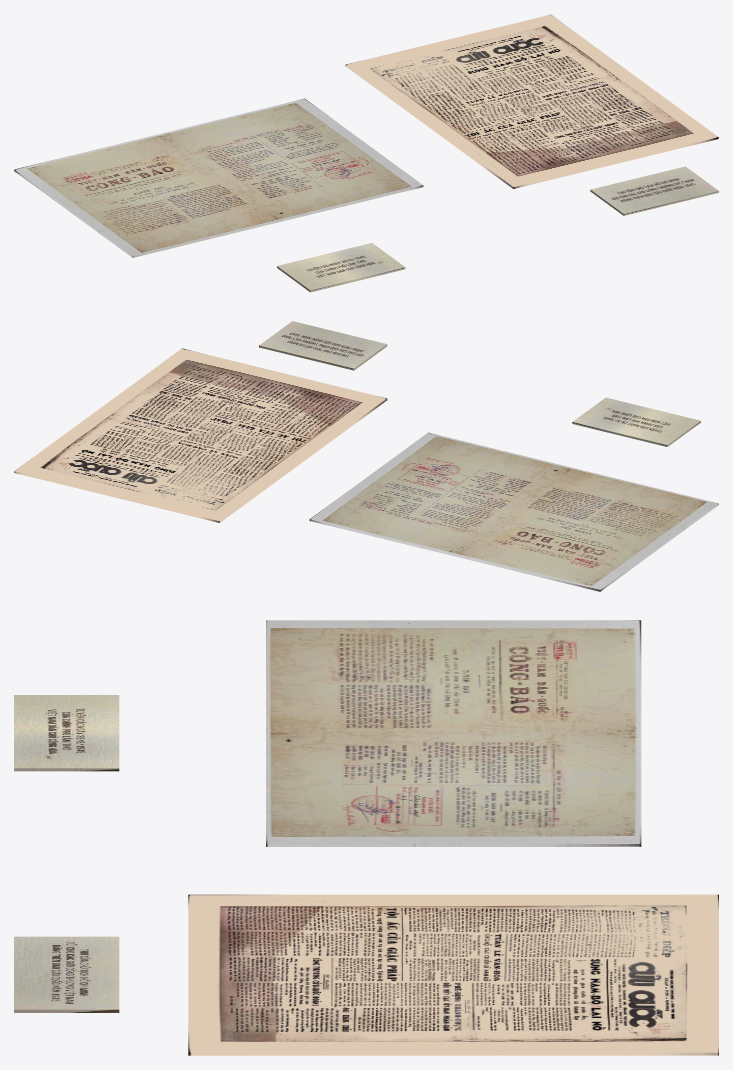
Rendered from thu_va_tuyen_cao.glb.
3 renders of one model, top to bottom at view 1: azimuth 30°, elevation 25°; view 2: azimuth 150°, elevation 25°; view 3: azimuth 270°, elevation 25°, orthographic. The views are drawn at different scales.
Parts seen in each view (by area): view 1: Mesh6_Model_18_1_1_0, Mesh1_Model_18_1_2_0, Mesh5_Model_18_1_3_0, Mesh10_Model_18_1_3_0, Mesh7_Model_18_1_1_0, Mesh8_Model_18_1_1_0, Mesh9_Model_18_1_1_0; view 2: Mesh6_Model_18_1_1_0, Mesh1_Model_18_1_2_0, Mesh10_Model_18_1_3_0, Mesh5_Model_18_1_3_0, Mesh7_Model_18_1_1_0, Mesh9_Model_18_1_1_0, Mesh8_Model_18_1_1_0, Mesh2_Model_18_1_2_0, Mesh3_Model_18_1_2_0, Mesh4_Model_18_1_2_0; view 3: Mesh1_Model_18_1_2_0, Mesh6_Model_18_1_1_0, Mesh5_Model_18_1_3_0, Mesh10_Model_18_1_3_0, Mesh8_Model_18_1_1_0.
Part boxes in pixels (x1,y1,x2,y2): Mesh6_Model_18_1_1_0: [14, 98, 423, 256]; Mesh1_Model_18_1_2_0: [346, 14, 718, 187]; Mesh5_Model_18_1_3_0: [590, 166, 718, 215]; Mesh10_Model_18_1_3_0: [277, 243, 405, 292]; Mesh7_Model_18_1_1_0: [14, 170, 423, 257]; Mesh8_Model_18_1_1_0: [14, 170, 422, 256]; Mesh9_Model_18_1_1_0: [14, 171, 422, 257]; Mesh6_Model_18_1_1_0: [309, 432, 718, 590]; Mesh1_Model_18_1_2_0: [14, 348, 386, 521]; Mesh10_Model_18_1_3_0: [572, 397, 700, 446]; Mesh5_Model_18_1_3_0: [259, 321, 387, 370]; Mesh7_Model_18_1_1_0: [309, 504, 718, 591]; Mesh9_Model_18_1_1_0: [310, 505, 718, 591]; Mesh8_Model_18_1_1_0: [310, 504, 718, 590]; Mesh2_Model_18_1_2_0: [14, 399, 387, 521]; Mesh3_Model_18_1_2_0: [14, 400, 386, 522]; Mesh4_Model_18_1_2_0: [14, 400, 387, 522]; Mesh1_Model_18_1_2_0: [188, 894, 718, 1053]; Mesh6_Model_18_1_1_0: [266, 620, 641, 844]; Mesh5_Model_18_1_3_0: [14, 936, 119, 1012]; Mesh10_Model_18_1_3_0: [14, 695, 119, 771]; Mesh8_Model_18_1_1_0: [266, 844, 640, 845].
Bounding box in the file's own units: 5.73 × 0.02 × 3.95.
Materials: 3 (3 with a texture image).
